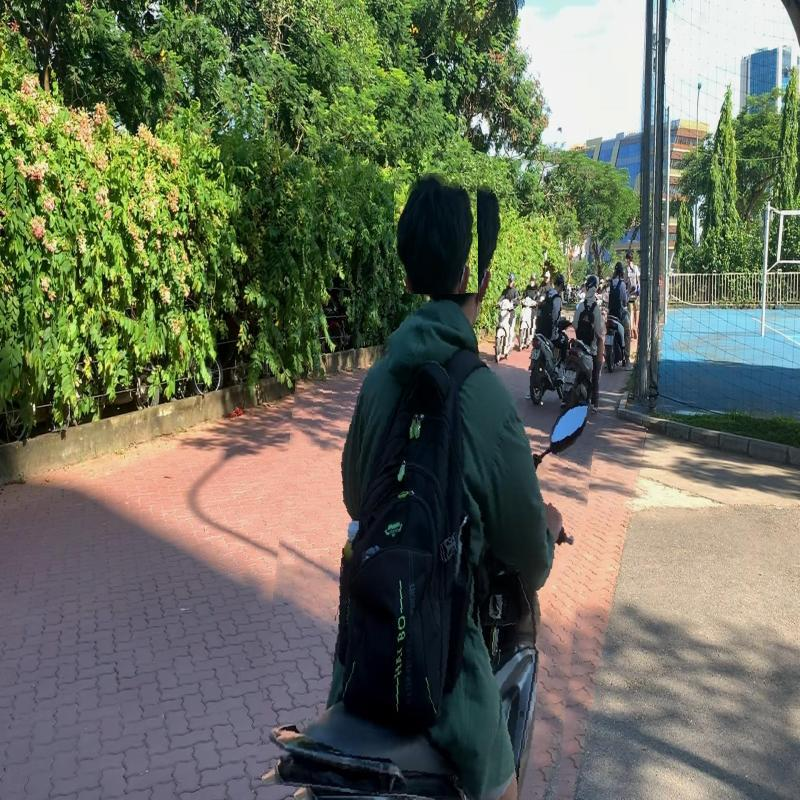motorcyclist: (269, 145, 605, 800)
nohelmet: (394, 172, 478, 294)
